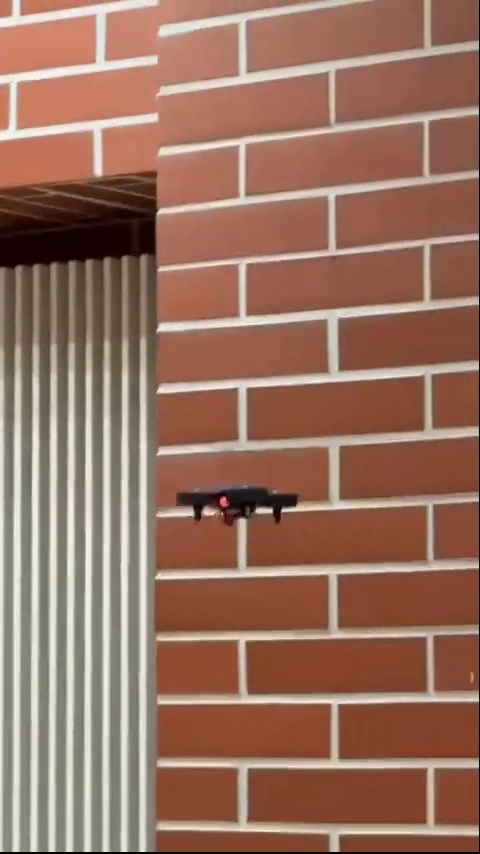drone: (170, 480, 308, 530)
